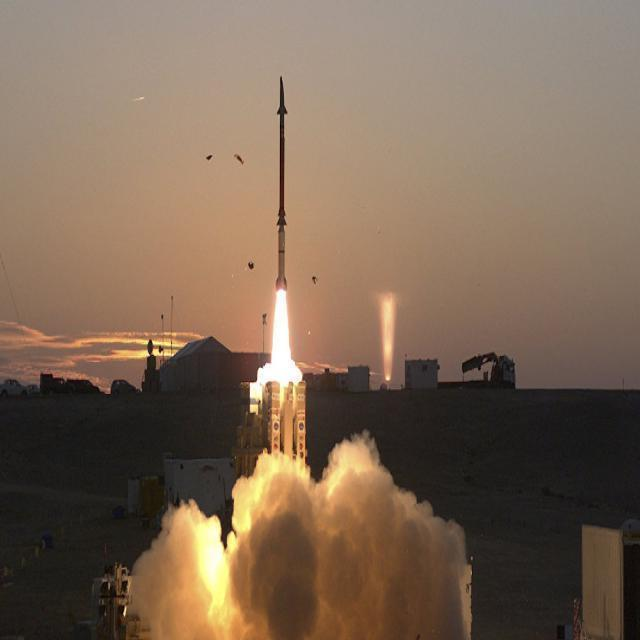missile: (269, 73, 299, 286)
